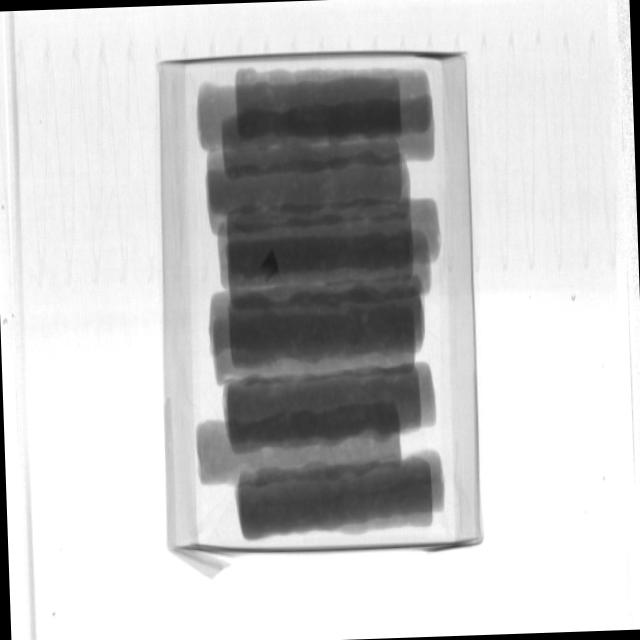ym: (260, 252, 282, 285)
